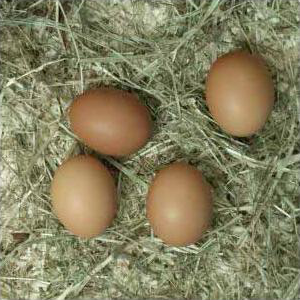egg: (205, 51, 275, 137), (69, 86, 151, 158), (50, 155, 117, 237), (147, 163, 213, 245)
